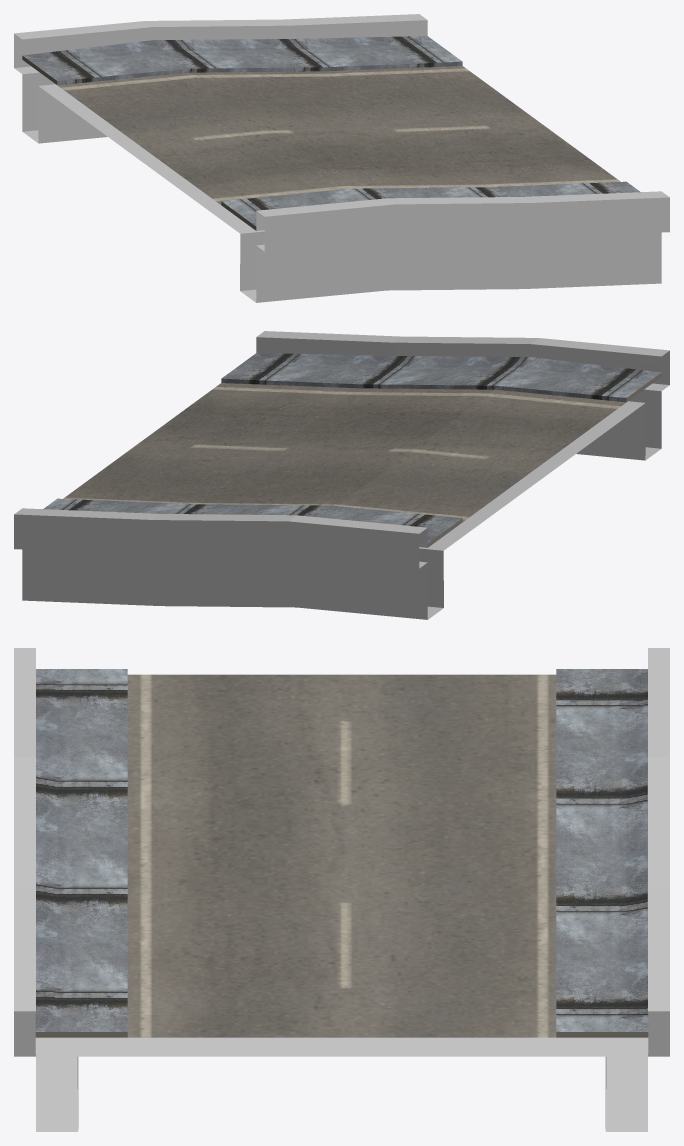
File: Urban_Road4BridgeRamp_Model.fbx
3 renders of one model, top to bottom at view 1: azimuth 30°, elevation 25°; view 2: azimuth 150°, elevation 25°; view 3: azimuth 270°, elevation 25°, orthographic. The views are drawn at different scales.
Visible parts, largest first — view 1: Urban_Road4BridgeRamp_Mesh; view 2: Urban_Road4BridgeRamp_Mesh; view 3: Urban_Road4BridgeRamp_Mesh.
Boxes of the visible parts, x1,y1,x2,y2 form: Urban_Road4BridgeRamp_Mesh: [14, 14, 669, 302]; Urban_Road4BridgeRamp_Mesh: [14, 331, 669, 619]; Urban_Road4BridgeRamp_Mesh: [14, 648, 669, 1131].
Bounding box in the file's own units: 16 × 6.48 × 17.13.
